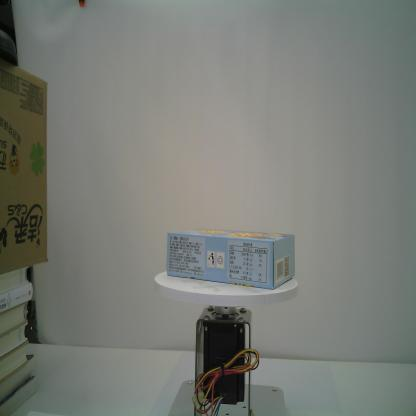Dessert: (167, 229, 295, 290)
